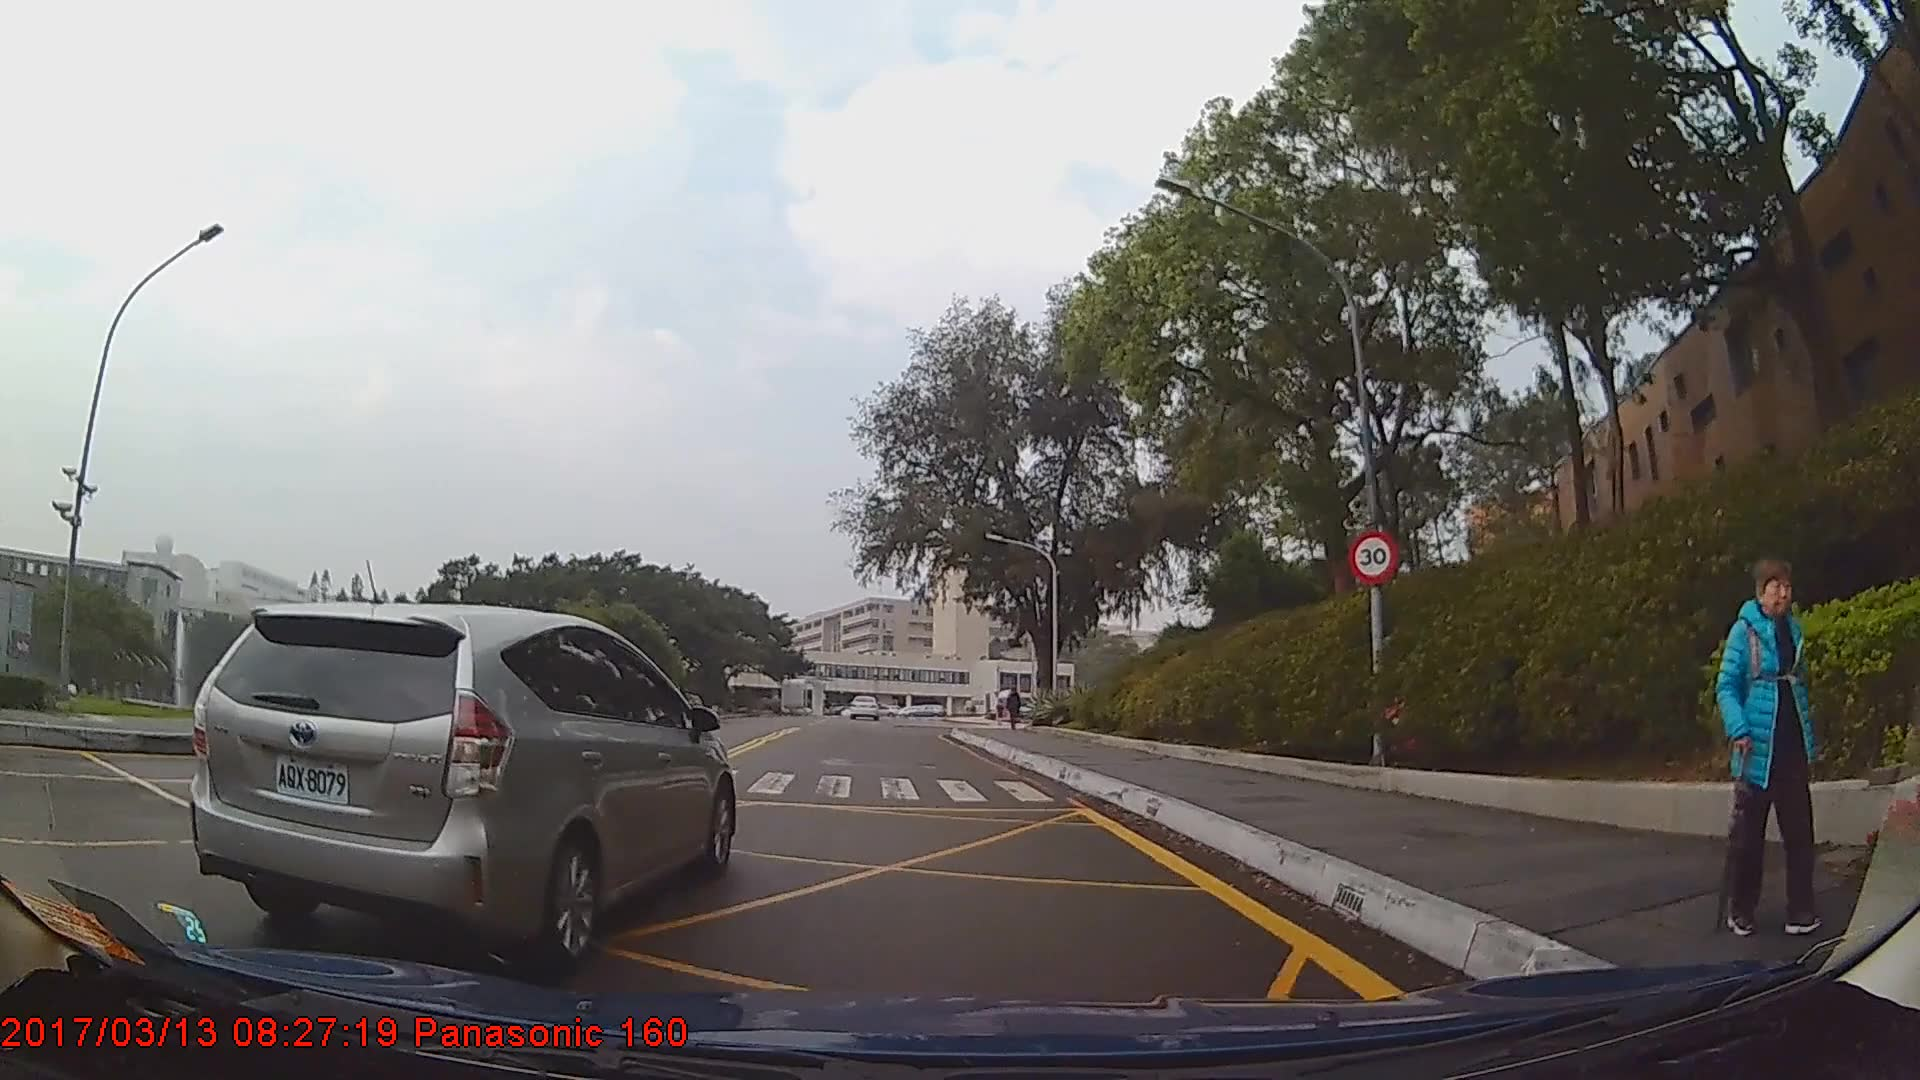pedestrian: (1715, 551, 1828, 935), (1005, 689, 1025, 733)
vehicle: (189, 600, 736, 972), (848, 693, 878, 720)
